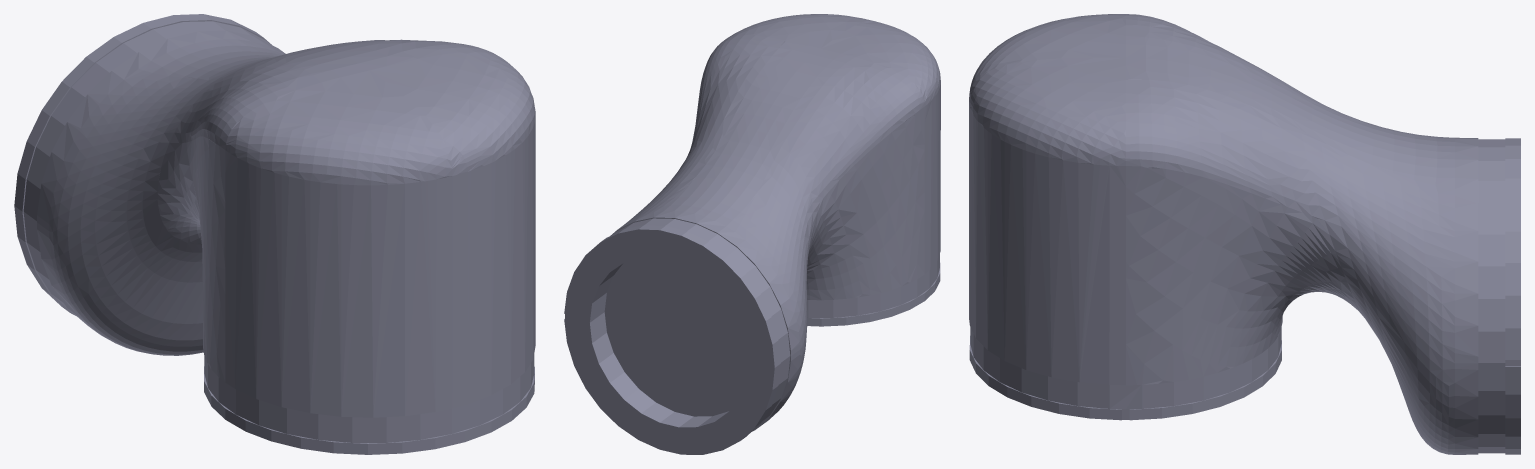
The model's file is arm1_link1_visuals.obj.
The picture shows the model from 3 angles, left to right: view 1: azimuth 30°, elevation 25°; view 2: azimuth 150°, elevation 25°; view 3: azimuth 270°, elevation 25°; orthographic projection. The views are drawn at different scales.
Size of the model in its own units: 0.082 by 0.109 by 0.1425.
